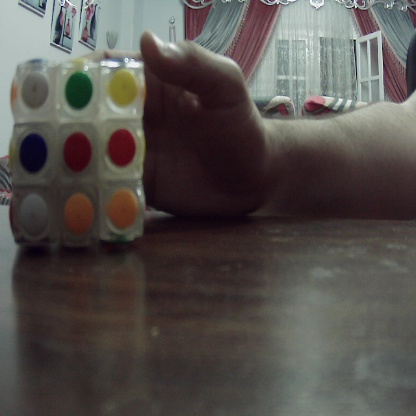Rubix Cube: (12, 60, 147, 243)
